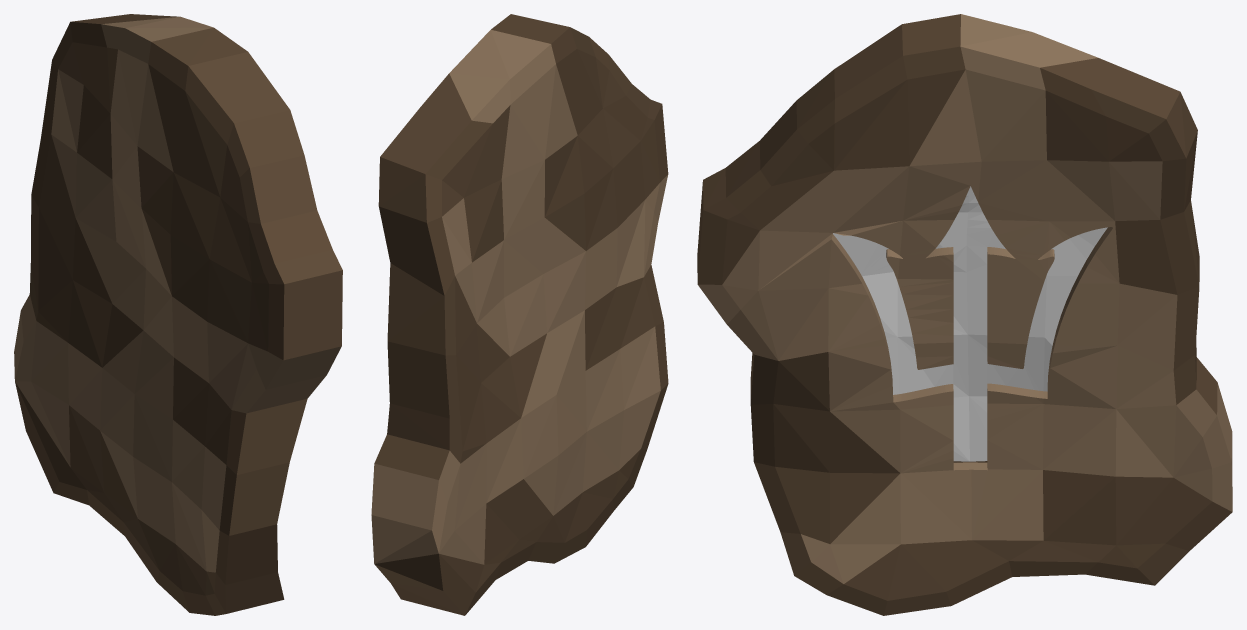
File: PuzzleTablet.fbx
3 renders of one model, left to right at view 1: azimuth 30°, elevation 25°; view 2: azimuth 150°, elevation 25°; view 3: azimuth 270°, elevation 25°, orthographic. The views are drawn at different scales.
Visible parts, largest first — view 1: tablet; view 2: tablet; view 3: tablet.
Boxes of the visible parts, x1=… form: tablet: x1=14, y1=14, x2=342, y2=615; tablet: x1=371, y1=14, x2=668, y2=615; tablet: x1=697, y1=14, x2=1232, y2=615.
Size of the model in its own units: 0.0656 by 0.3344 by 0.2854.
